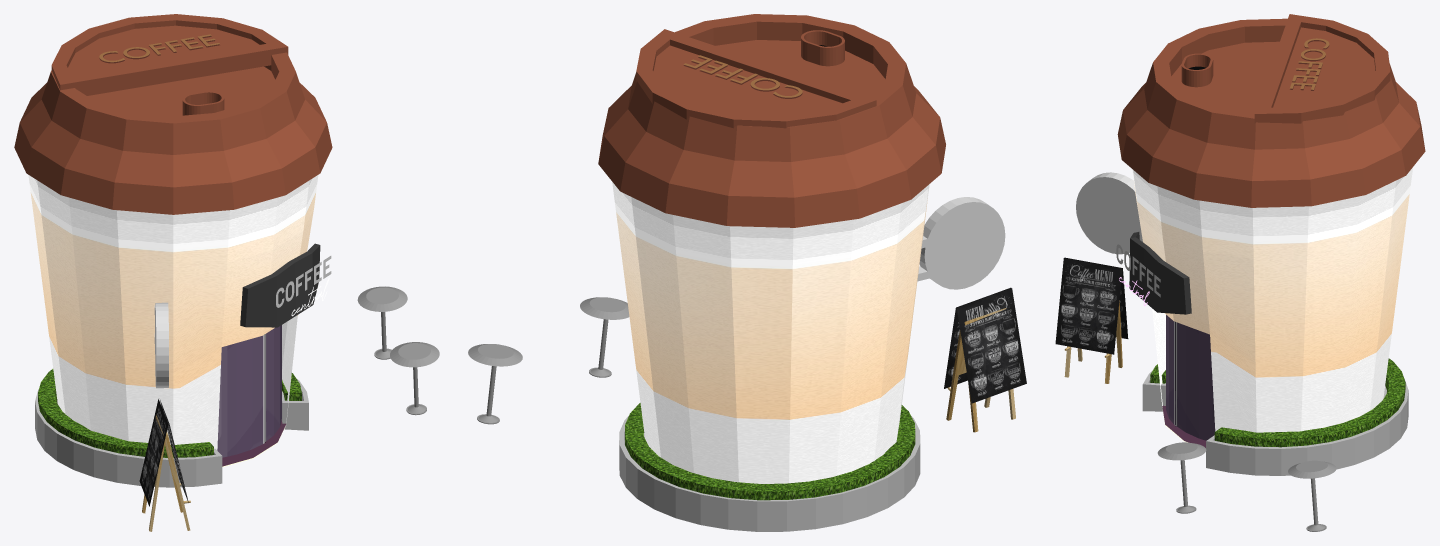
File: coffeeshop.glb
3 views of the same model, side by side, from view 1: azimuth 30°, elevation 25°; view 2: azimuth 150°, elevation 25°; view 3: azimuth 270°, elevation 25° (orthographic). The views are drawn at different scales.
Visible parts, largest first — view 1: Cylinder, Cylinder.001, Cylinder.002, Circle.002, DoorLeft, Cube.003, Circle.003, DoorRight, Cube.002, Table, Table.001, Circle (+5 smaller); view 2: Cylinder, Cylinder.001, Cylinder.002, Circle.002, Circle.003, Cube.002, Circle, Table.001, Cylinder.003, Table, Cube.001, Coffee-top-text-1; view 3: Cylinder, Cylinder.001, Cylinder.002, Circle.002, Cube.002, Circle, DoorRight, Circle.003, Cube.003, Table, Table.001, DoorLeft (+4 smaller).
Boxes of the visible parts, x1,y1,x2,y2 form: Cylinder: (28,175,318,467); Cylinder.001: (14,52,332,214); Cylinder.002: (51,14,288,95); Circle.002: (35,378,308,487); DoorLeft: (217,334,265,457); Cube.003: (240,243,320,327); Circle.003: (38,369,301,457); DoorRight: (265,325,281,441); Cube.002: (139,399,188,506); Table: (390,342,439,415); Table.001: (357,286,407,359); Circle: (154,302,168,388); Cylinder: (612,182,929,483); Cylinder.001: (598,14,945,227); Cylinder.002: (636,29,876,128); Circle.002: (619,416,920,531); Circle.003: (625,403,915,500); Cube.002: (944,287,1026,403); Circle: (917,197,1005,289); Table.001: (468,344,522,424); Cylinder.003: (801,30,844,66); Table: (580,297,629,377); Cube.001: (946,308,1015,432); Coffee-top-text-1: (683,55,802,97); Cylinder: (1132,167,1412,442); Cylinder.001: (1117,18,1425,207); Cylinder.002: (1254,14,1390,123); Circle.002: (1142,371,1408,475); Cube.002: (1055,257,1128,354); Circle: (1076,172,1142,254); DoorRight: (1175,322,1215,440); Circle.003: (1150,358,1405,447); Cube.003: (1129,232,1191,314); Table: (1157,442,1206,513); Table.001: (1288,460,1336,531); DoorLeft: (1166,315,1176,426).
Bounding box in the file's own units: 9.88 × 8.93 × 8.36.
Materials: 19 (8 with a texture image).
